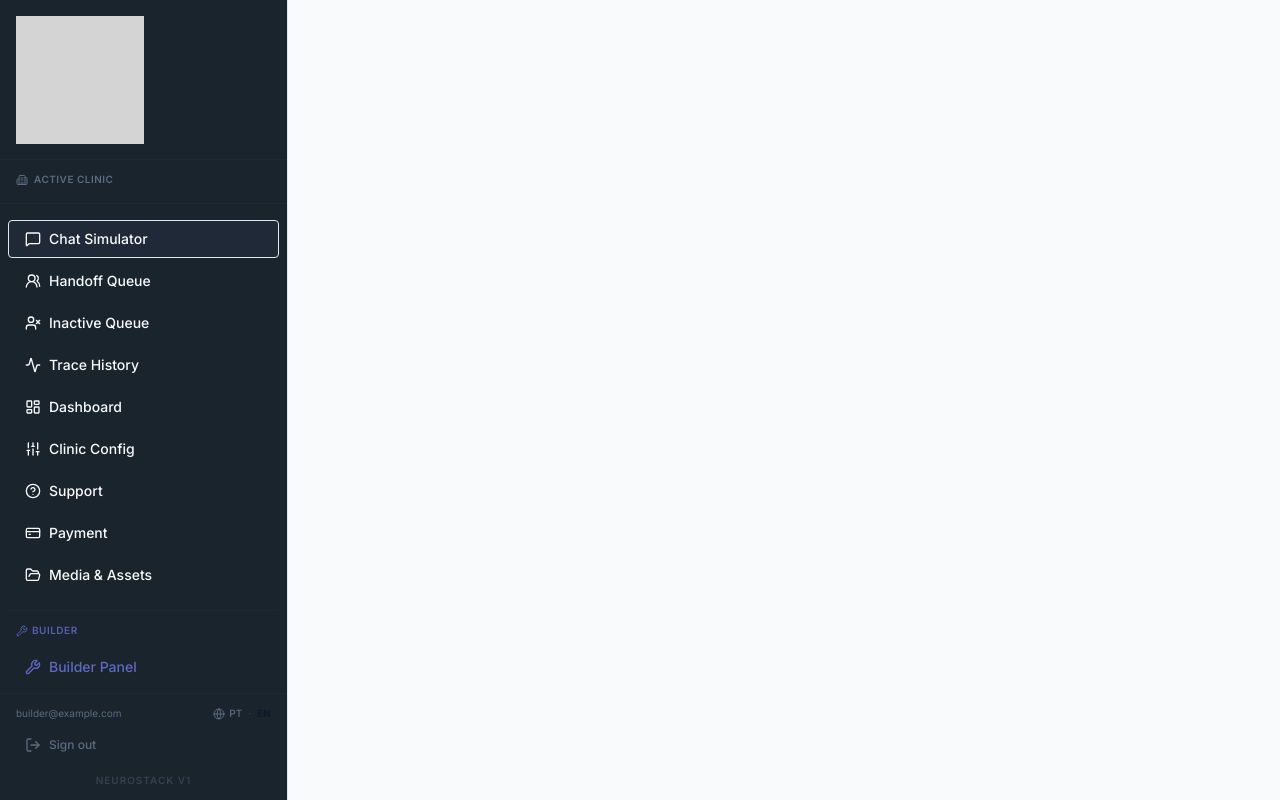
Scenario: <Layout /> password self-service › opens from the native password button and closes the dialog with Escape
Click the button with test id "btn-change-own-password" at (69, 714), box [16,706,121,721]
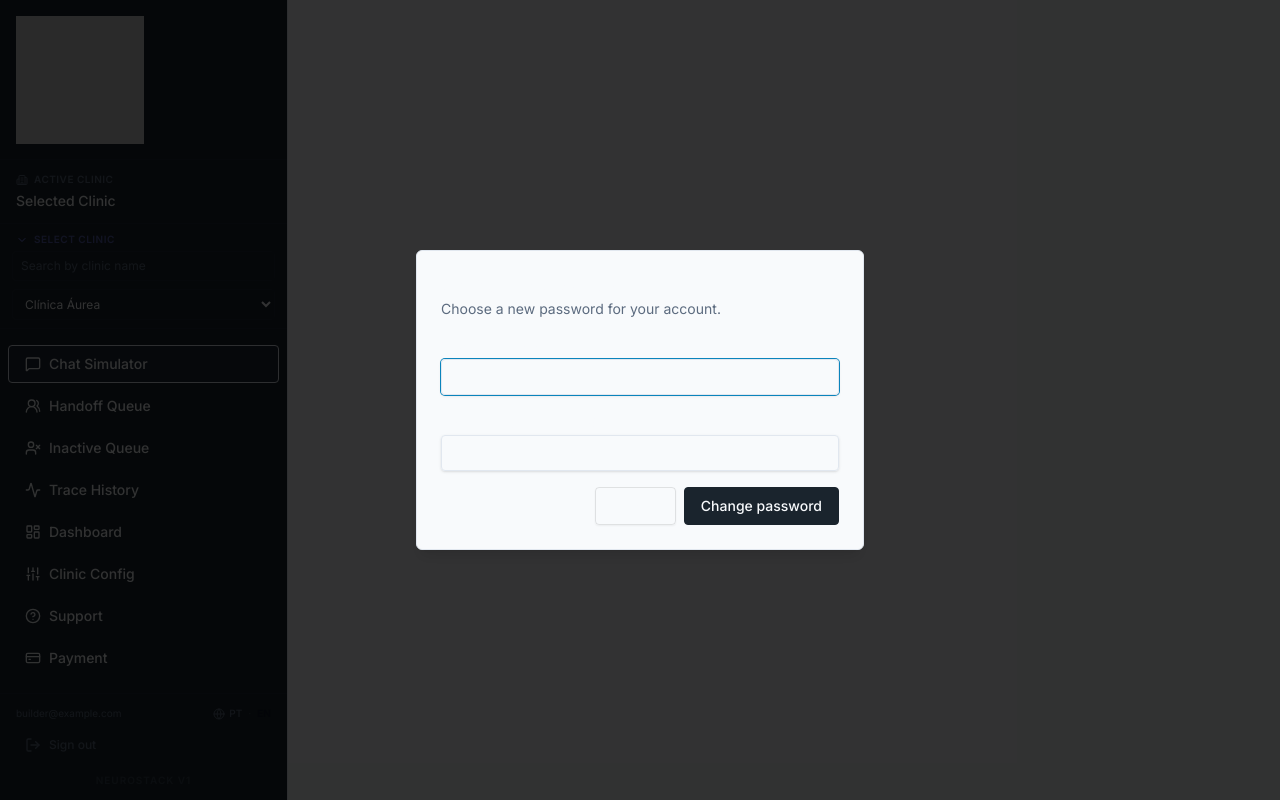
Now the dialog is shown
Press Escape in the dialog, box [416,250,864,550]
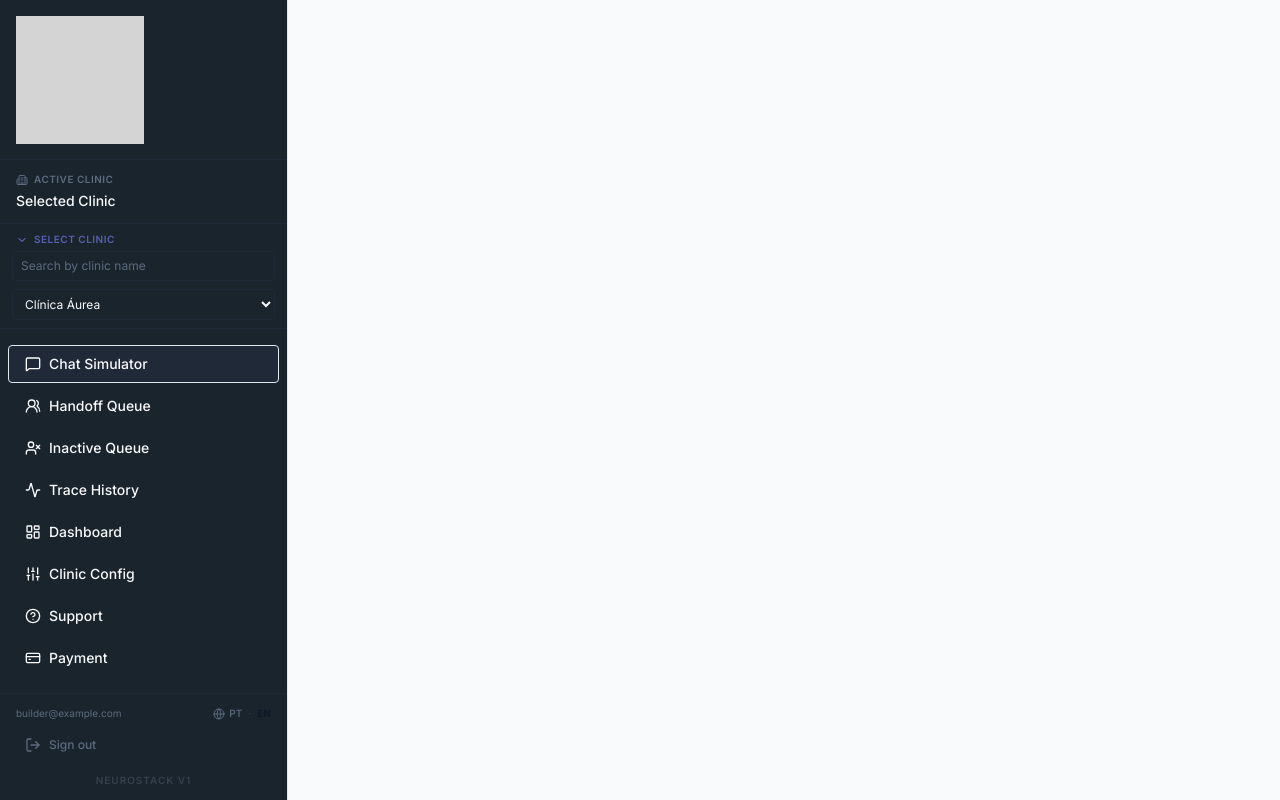
Now the dialog is gone
